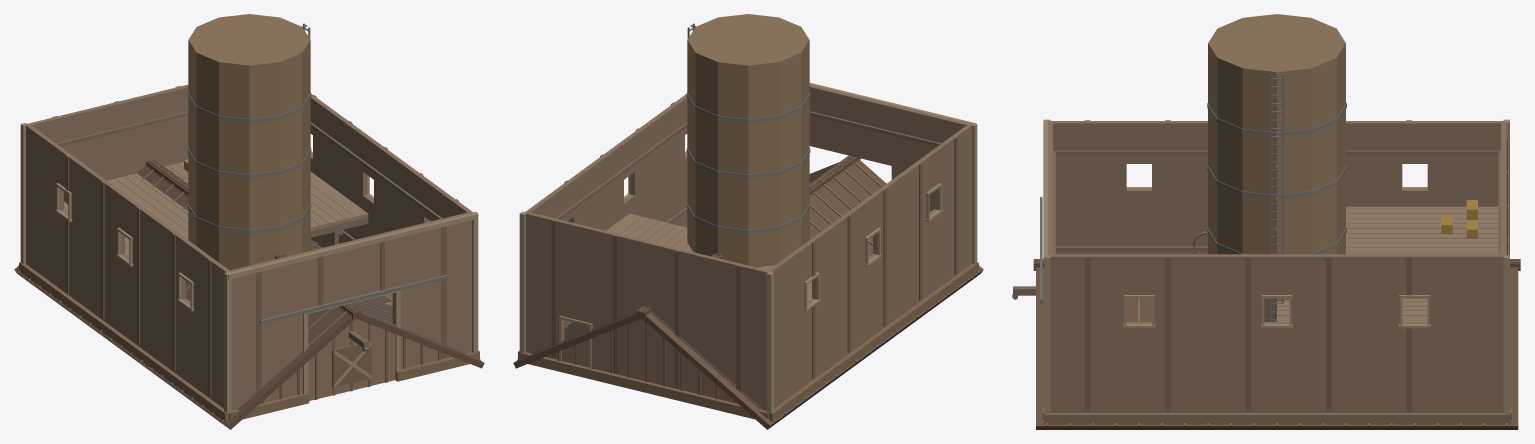
The model's file is props.glb.
3 views of the same model, side by side, from view 1: azimuth 30°, elevation 25°; view 2: azimuth 150°, elevation 25°; view 3: azimuth 270°, elevation 25° (orthographic). The views are drawn at different scales.
Visible parts, largest first — view 1: Barn, SiloBody, BarnRoof; view 2: Barn, SiloBody, BarnRoof; view 3: Barn, SiloBody, BarnRoof.
Part boxes in pixels (x1,y1,x2,y2): Barn: (19,84,479,421); SiloBody: (187,14,311,270); BarnRoof: (14,159,484,429); Barn: (518,82,978,421); SiloBody: (686,14,810,267); BarnRoof: (513,155,983,429); Barn: (1040,119,1511,424); SiloBody: (1207,14,1346,321); BarnRoof: (1012,259,1520,429).
Bounding box in the file's own units: 14.65 × 15.75 × 22.12.
